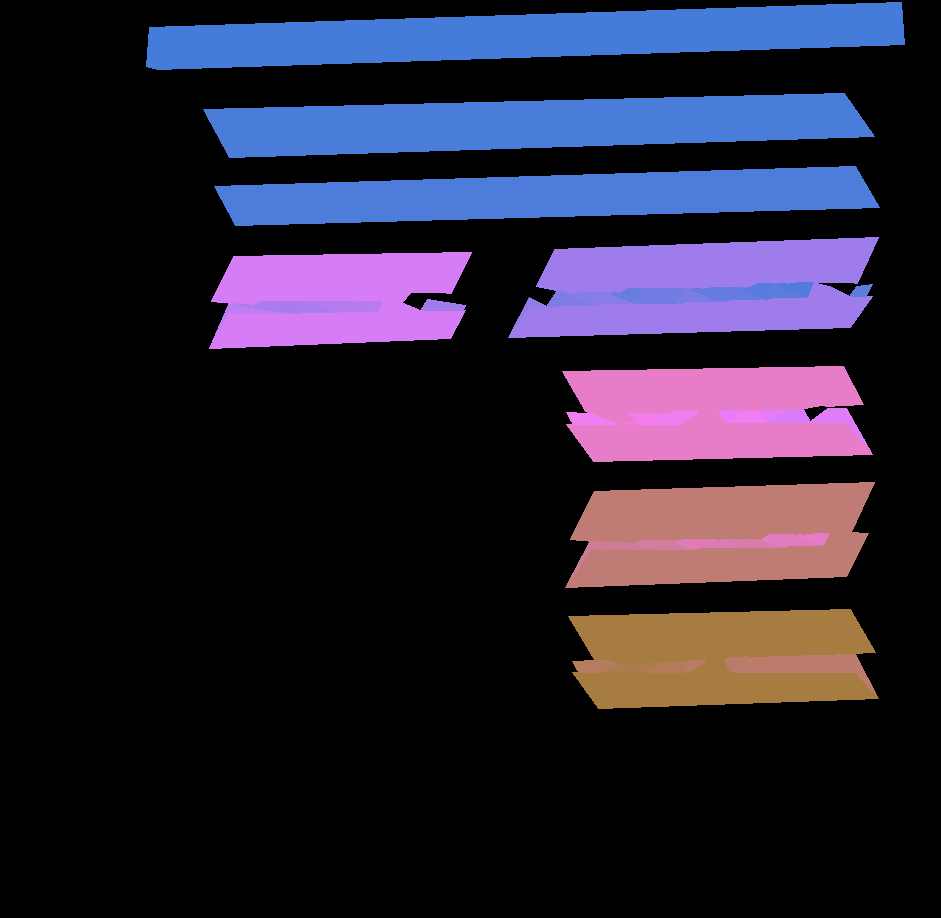parkingspot: (146, 2, 904, 69), (203, 93, 874, 157), (214, 166, 879, 225), (508, 282, 872, 337), (536, 237, 878, 294), (570, 481, 874, 543), (566, 402, 872, 461), (572, 651, 878, 708), (565, 530, 868, 587), (568, 608, 875, 664), (562, 366, 863, 423), (211, 252, 471, 305), (209, 295, 465, 348)
